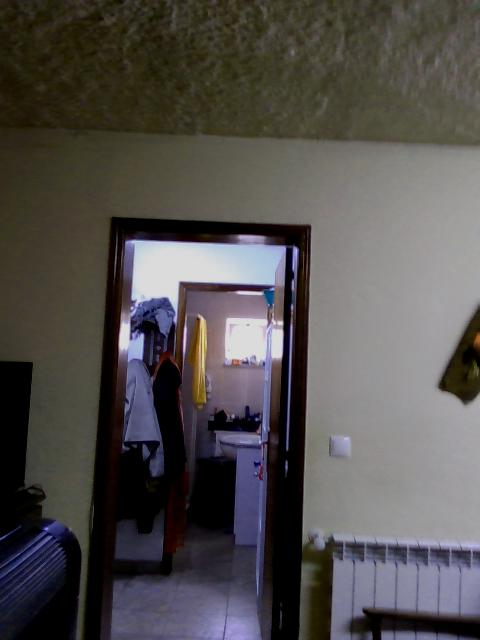open_door: (83, 213, 311, 639)
